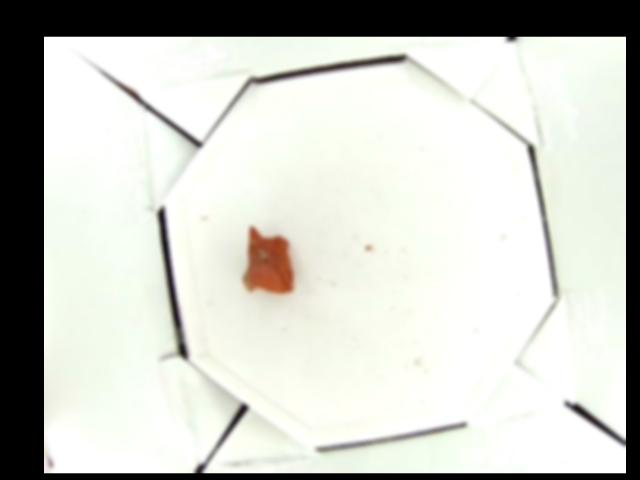Brisk: (241, 227, 293, 294)
